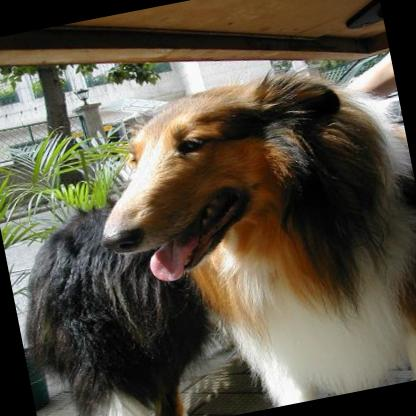collie: (0, 51, 416, 416)
